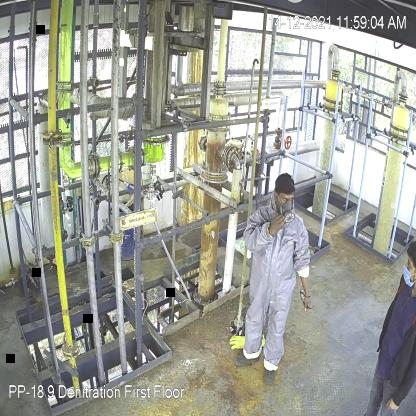mask: (281, 201, 296, 225)
no_glove: (298, 273, 314, 314), (269, 210, 285, 240)
no_goggles: (279, 194, 294, 204)
